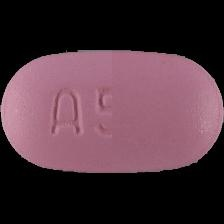50268-643: (0, 0, 224, 224)
